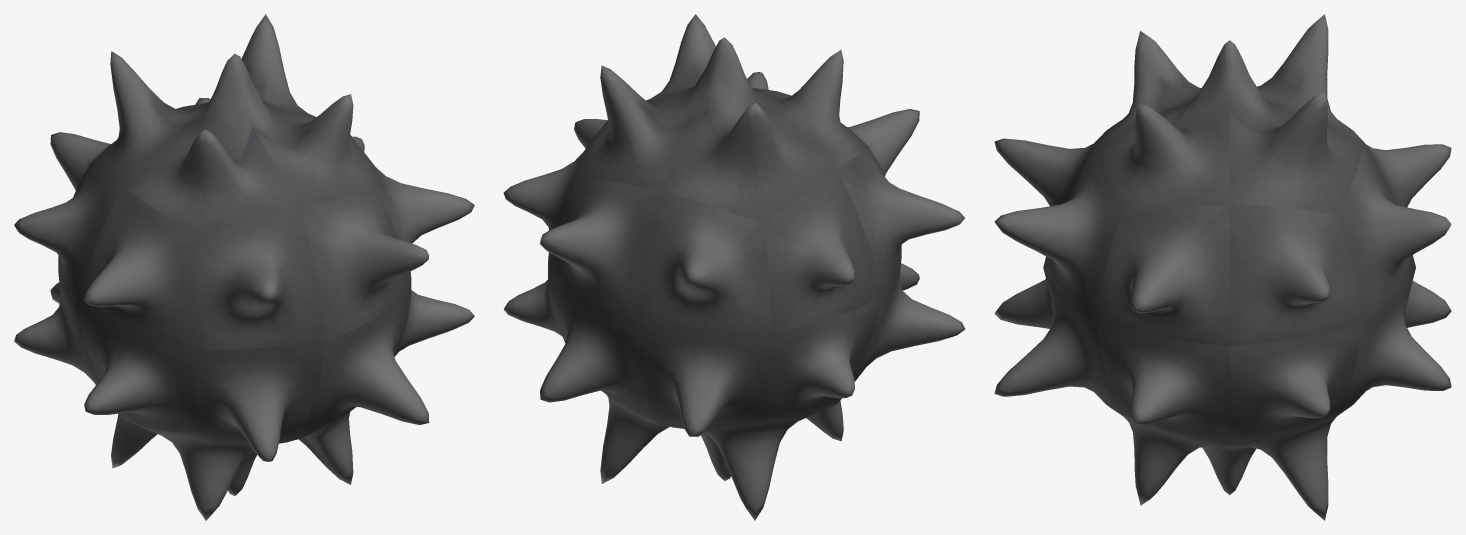
Rendered from spike.fbx.
3 renders of one model, left to right at view 1: azimuth 30°, elevation 25°; view 2: azimuth 150°, elevation 25°; view 3: azimuth 270°, elevation 25°, orthographic. The views are drawn at different scales.
Visible parts, largest first — view 1: Cube; view 2: Cube; view 3: Cube.
Boxes of the visible parts, left/top/right/bottom form: Cube: left=14, top=14, right=474, bottom=520; Cube: left=503, top=14, right=965, bottom=520; Cube: left=994, top=14, right=1451, bottom=520.
Bounding box in the file's own units: 164 × 179 × 163.
1 material, 1 textured.
